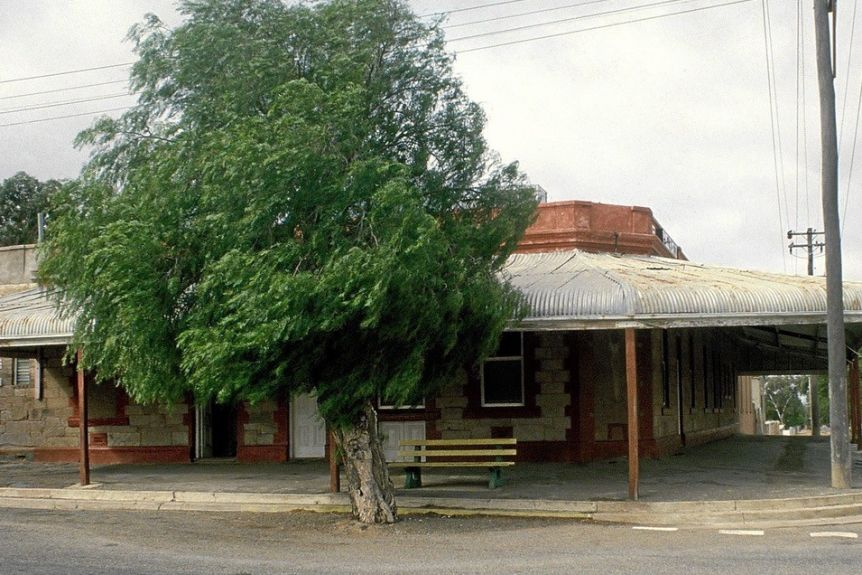tree: (30, 1, 550, 528)
